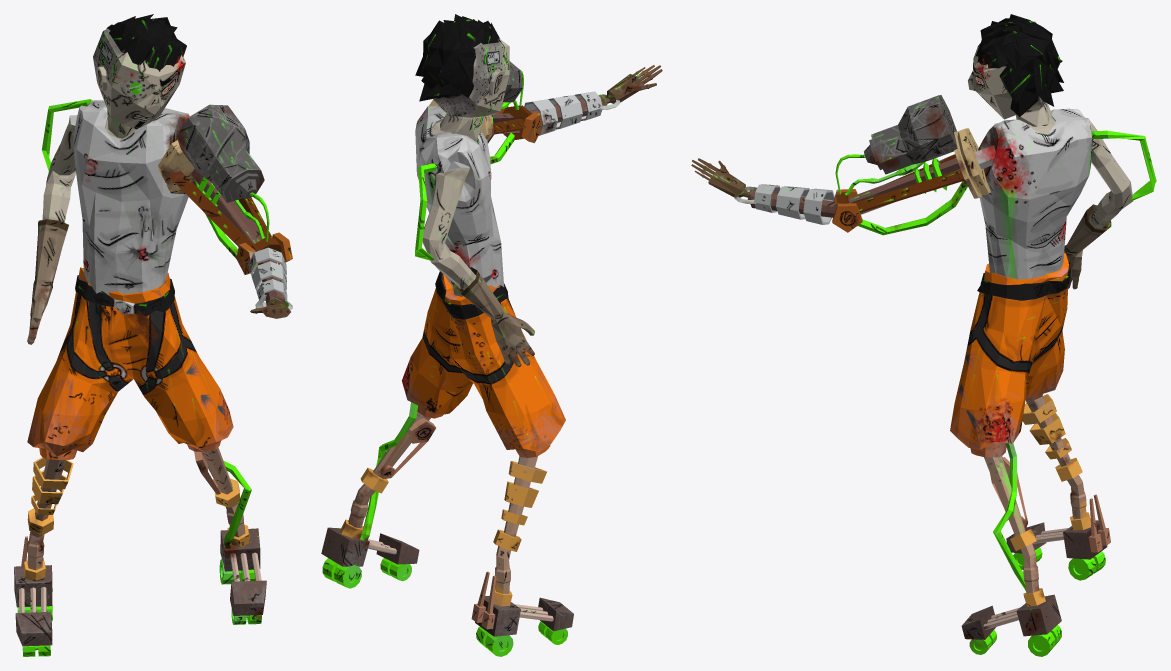
File: CyborgFINALAnimation_000033.obj
3 views of the same model, side by side, from view 1: azimuth 30°, elevation 25°; view 2: azimuth 150°, elevation 25°; view 3: azimuth 270°, elevation 25° (orthographic). The views are drawn at different scales.
Visible parts, largest first — view 1: CyborgMesh_Cube.002; view 2: CyborgMesh_Cube.002; view 3: CyborgMesh_Cube.002.
Boxes of the visible parts, x1,y1,x2,y2 form: CyborgMesh_Cube.002: (14, 14, 292, 656); CyborgMesh_Cube.002: (321, 14, 662, 656); CyborgMesh_Cube.002: (691, 14, 1156, 656).
Size of the model in its own units: 4.03 by 9.53 by 6.8.
